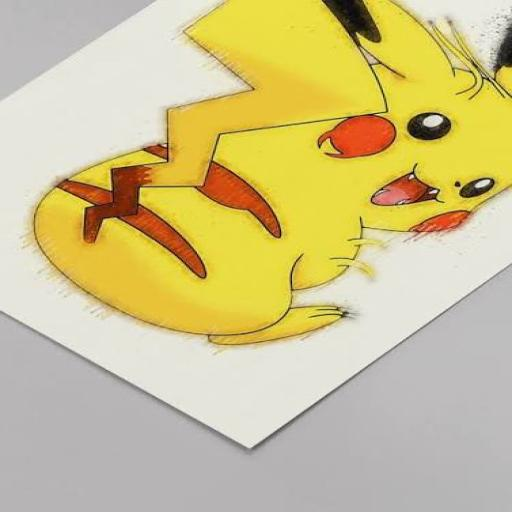Pikachu: (36, 0, 512, 344)
